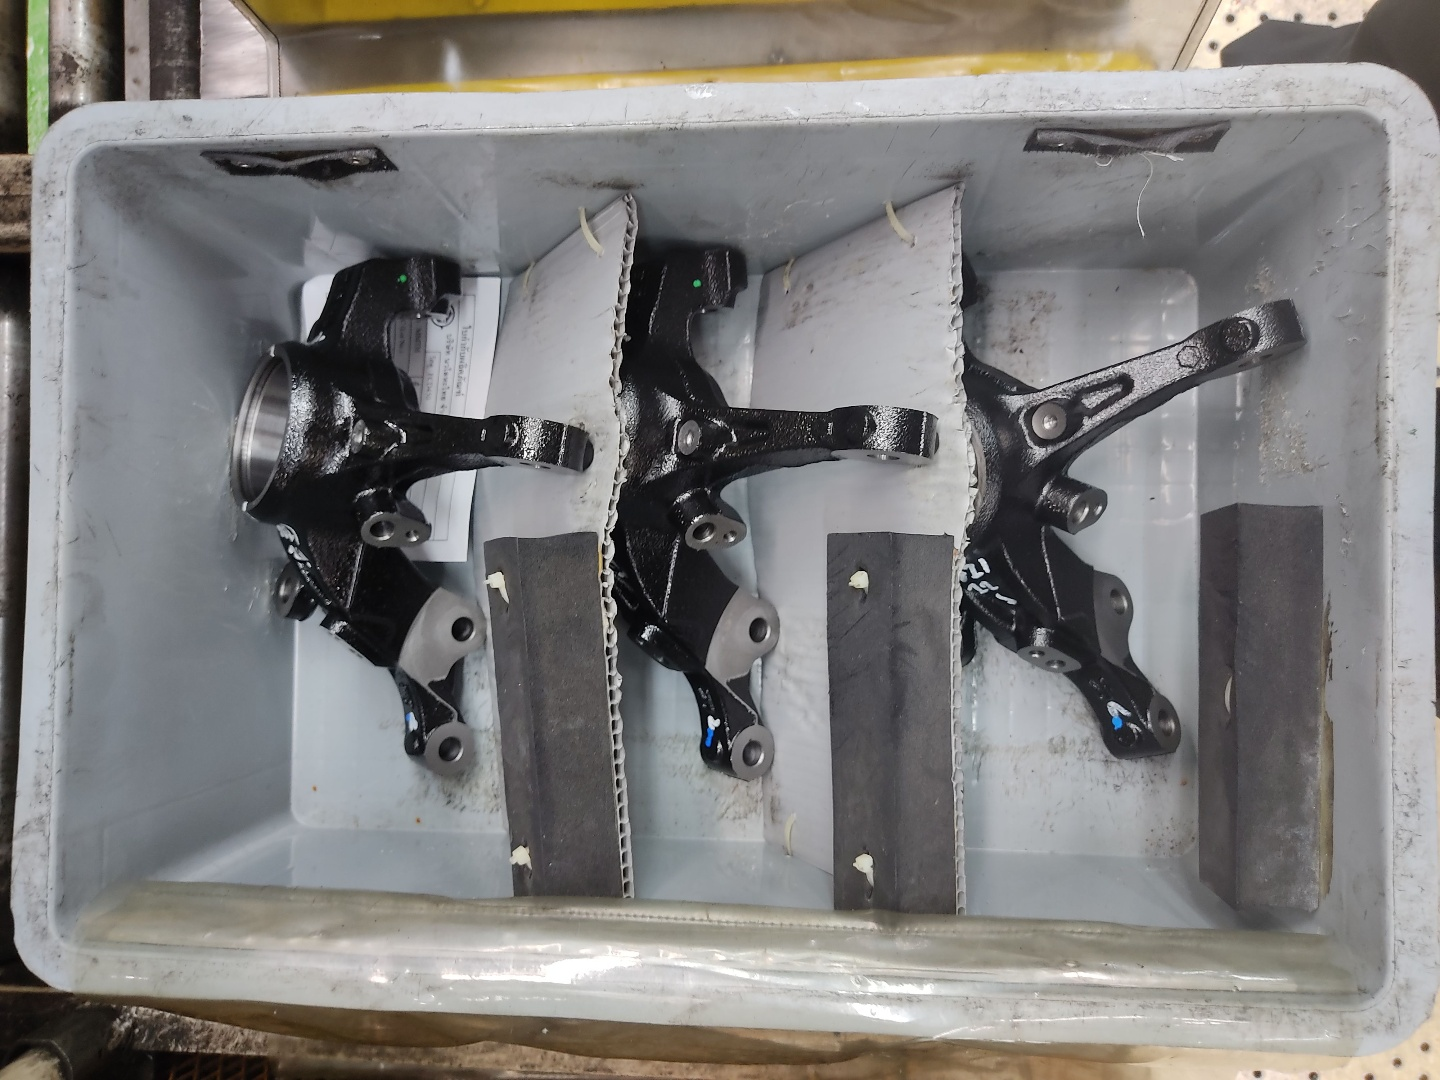abs-rh: (222, 243, 594, 786), (946, 235, 1315, 771), (612, 235, 950, 786)
